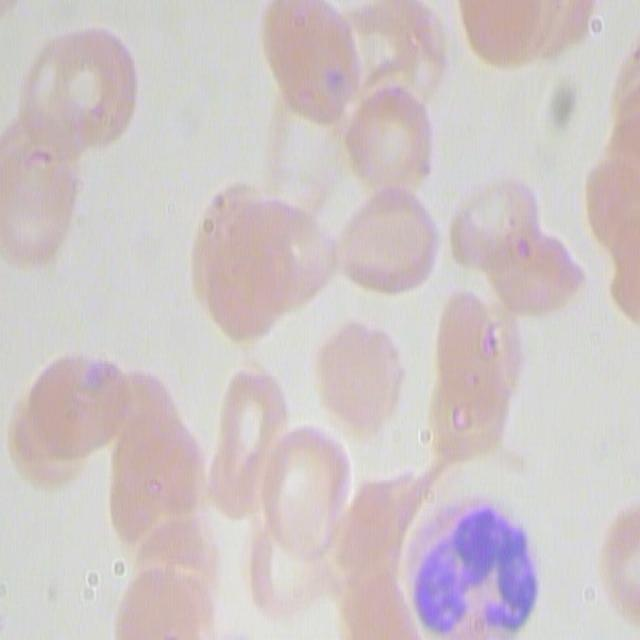RBC: (192, 175, 334, 342), (418, 290, 522, 464), (16, 17, 143, 151), (244, 424, 353, 554), (320, 186, 438, 302), (310, 304, 406, 441), (268, 3, 368, 134), (339, 79, 443, 198), (0, 101, 75, 263), (443, 0, 593, 73), (205, 368, 288, 497), (483, 225, 584, 330), (586, 129, 640, 249), (602, 493, 640, 623)
WBC: (391, 473, 546, 640)
